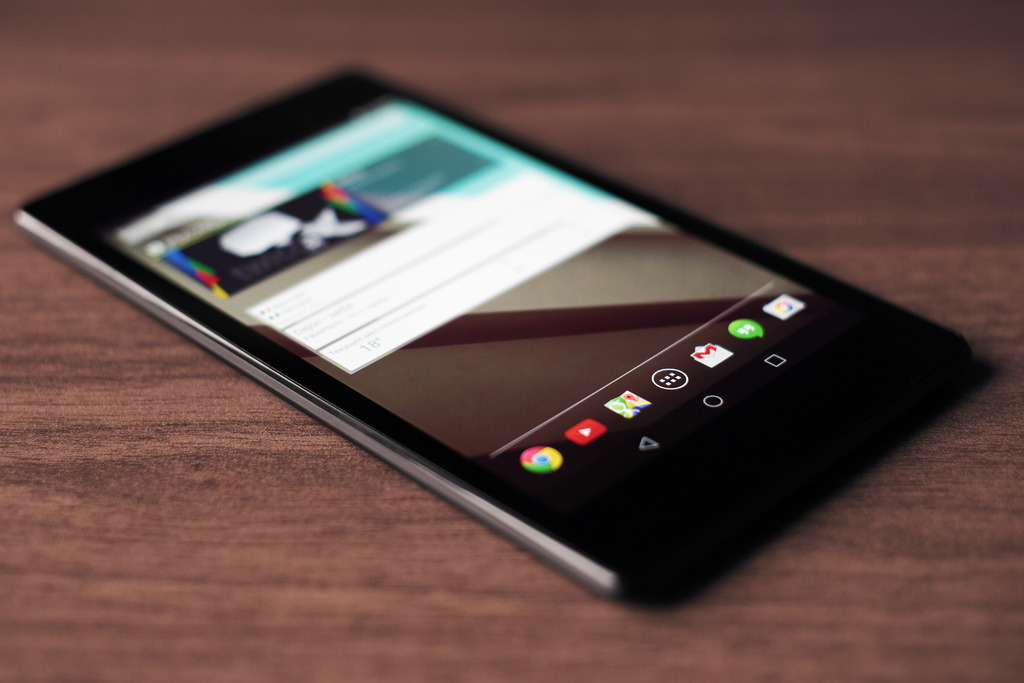mobile phone: (7, 69, 996, 624)
